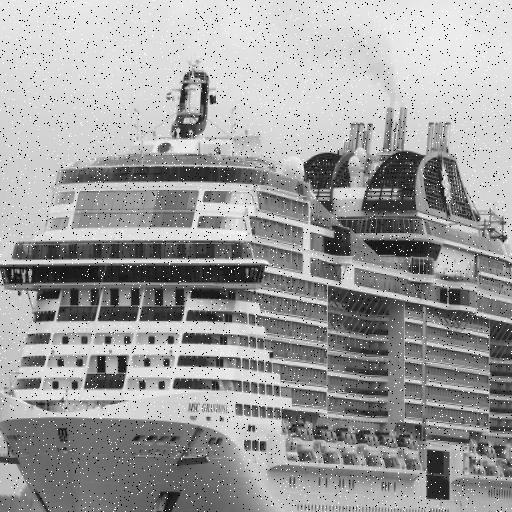cruises: (1, 62, 512, 512)
